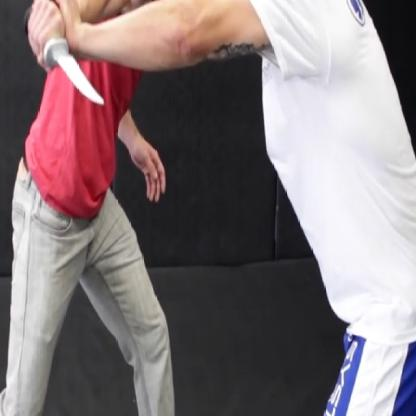knife: (19, 0, 111, 116)
